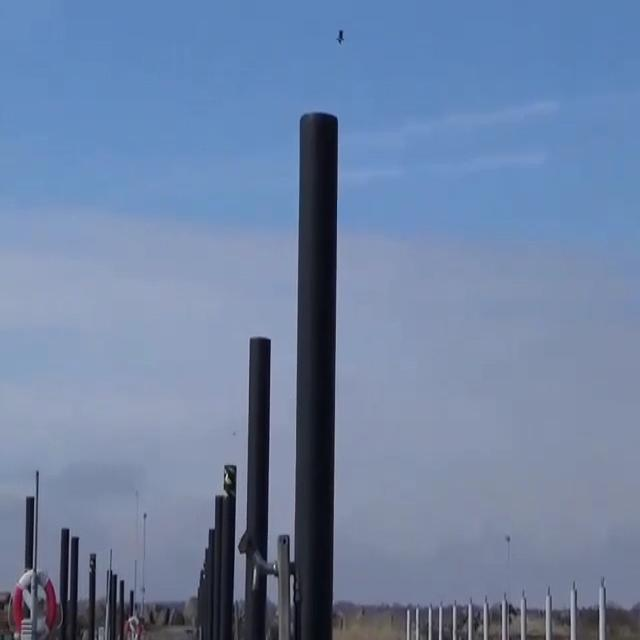bird: (335, 29, 346, 50)
